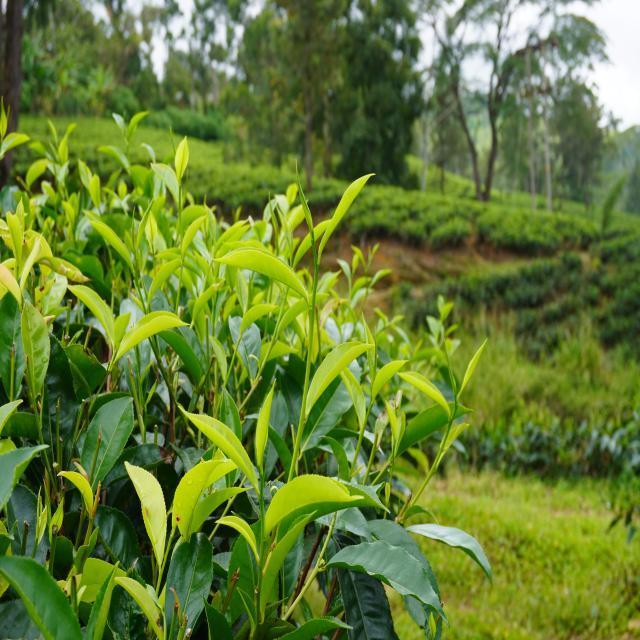Stem: (314, 267, 319, 285), (259, 497, 264, 510), (268, 343, 274, 352), (134, 276, 139, 286), (236, 338, 241, 347), (367, 404, 372, 413), (452, 408, 457, 417), (179, 187, 181, 199)
